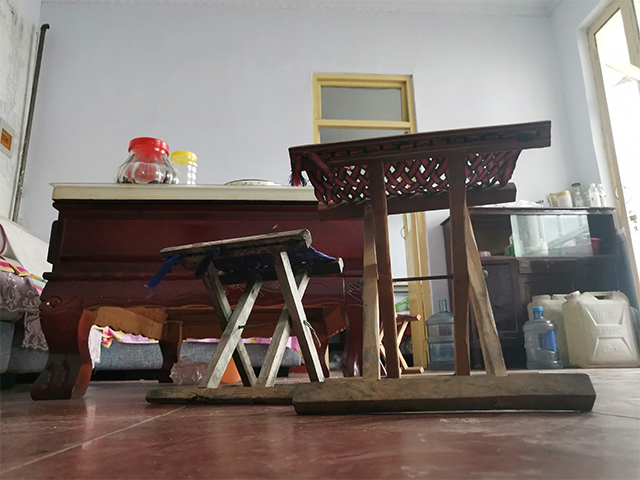cabinet: (437, 203, 624, 369)
stool: (144, 117, 598, 419)
table: (29, 178, 392, 402)
